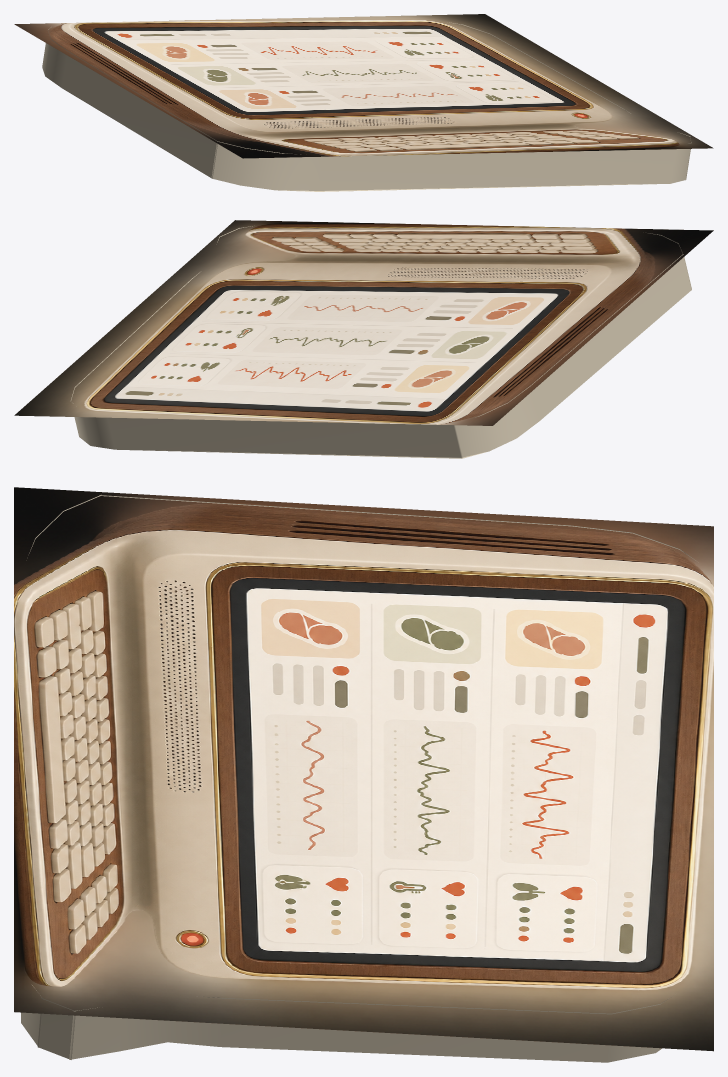
Rendered from vintage-relief-desktop.glb.
3 views of the same model, one above another, from view 1: azimuth 30°, elevation 25°; view 2: azimuth 150°, elevation 25°; view 3: azimuth 270°, elevation 25° (orthographic). The views are drawn at different scales.
Visible parts, largest first — view 1: Neonatal care desktop · exact approved vintage artwork, Neonatal care desktop · outline-matched solid device body; view 2: Neonatal care desktop · exact approved vintage artwork, Neonatal care desktop · outline-matched solid device body; view 3: Neonatal care desktop · exact approved vintage artwork, Neonatal care desktop · outline-matched solid device body.
Boxes of the visible parts, bbox=[...] form: Neonatal care desktop · exact approved vintage artwork: bbox=[14, 14, 713, 158]; Neonatal care desktop · outline-matched solid device body: bbox=[42, 22, 691, 191]; Neonatal care desktop · exact approved vintage artwork: bbox=[14, 220, 713, 425]; Neonatal care desktop · outline-matched solid device body: bbox=[70, 226, 691, 458]; Neonatal care desktop · exact approved vintage artwork: bbox=[14, 487, 713, 1051]; Neonatal care desktop · outline-matched solid device body: bbox=[21, 494, 695, 1062].
Bounding box in the file's own units: 3.51 × 1.1 × 2.85.
Materials: 2 (1 with a texture image).
